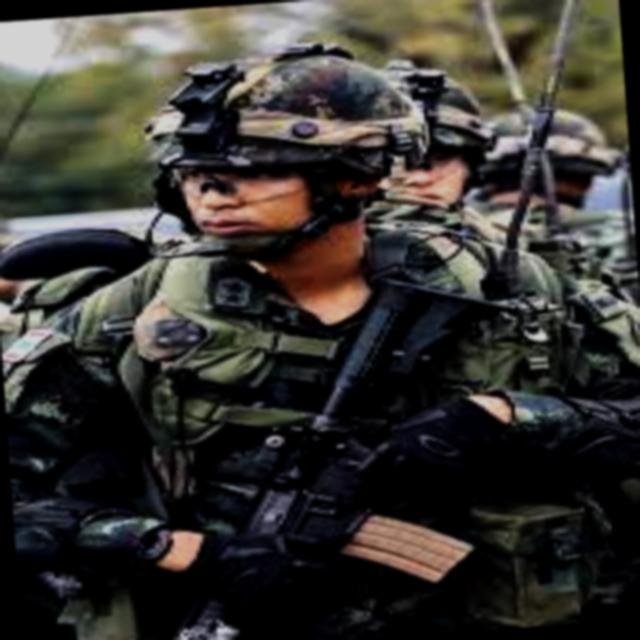m16: (3, 160, 640, 640)
